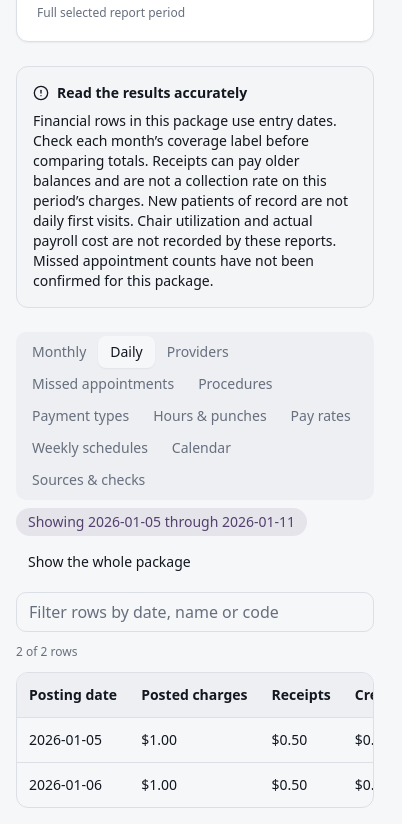
Test: Report history › opens the package covering the range on the requested tab, narrowed to the range, with a way to widen it
The width and height of the screenshot is (402, 824).
(page scrolled)
Expected: the tab "Daily" is shown, [98, 336, 155, 368]
Expected: the text "Showing 2026-01-05 through 2026-01-11" is shown, [16, 508, 307, 536]
Click the button "Show the whole package" at coordinates (109, 562), box [16, 544, 203, 580]
(page scrolled)
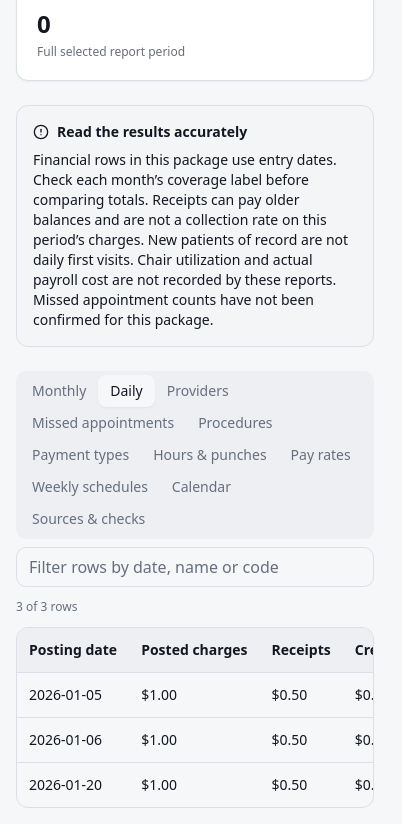
Result: the text "3 of 3 rows" is shown at [16, 598, 77, 615]
